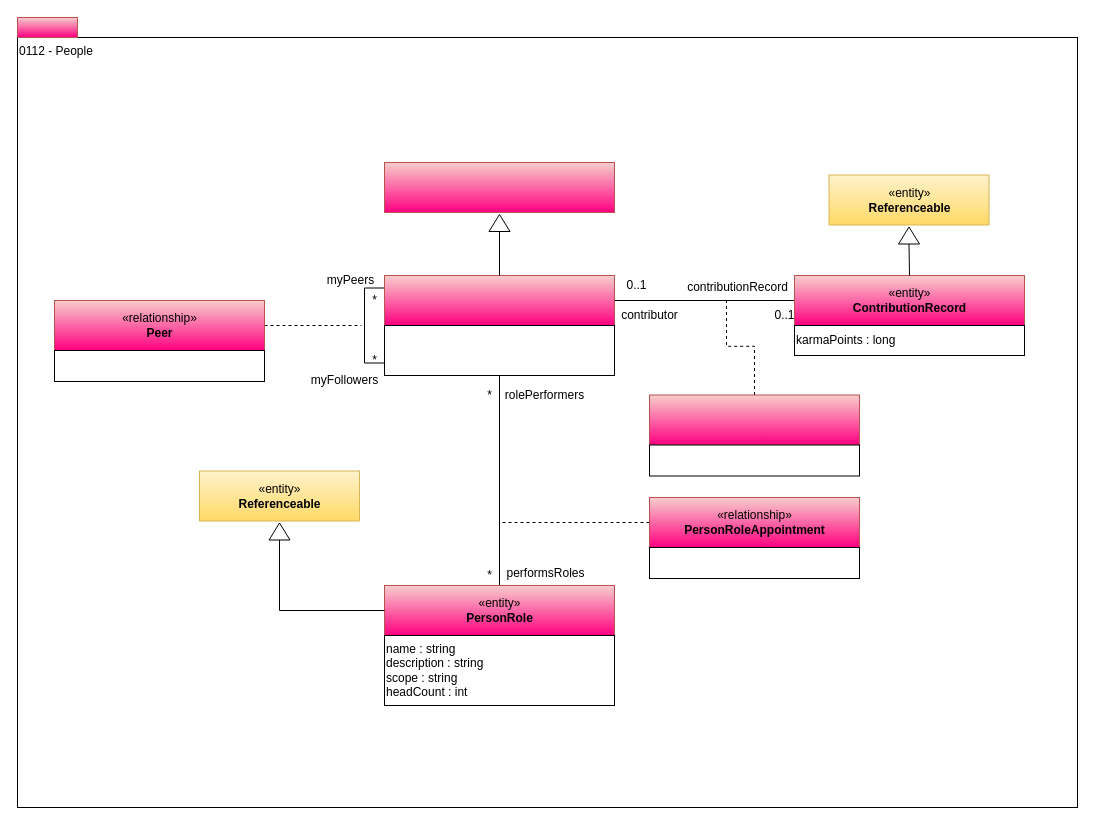
Image size: 1095x825. Some labels were removed from this diagram. Each missing label, with the centre of its shape:
"fullName : string jobTitle : string" belongs at point 499,350.
"«entity» ActorProfile" belongs at point 499,187.
"«entity» Person" belongs at point 499,300.
"«relationship» PersonalContribution" belongs at point 754,419.
